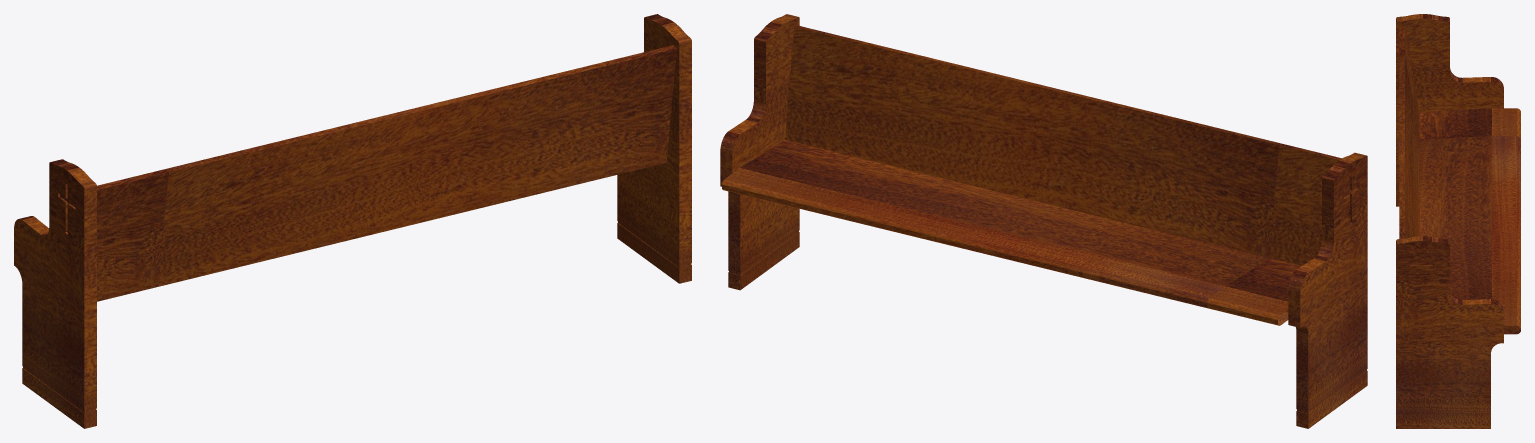
3 renders of one model, left to right at view 1: azimuth 30°, elevation 25°; view 2: azimuth 150°, elevation 25°; view 3: azimuth 270°, elevation 25°, orthographic. The views are drawn at different scales.
Parts seen in each view (by area): view 1: mesh7_mesh7-geometry, mesh4_mesh4-geometry, mesh1_mesh1-geometry; view 2: mesh7_mesh7-geometry, mesh4_mesh4-geometry, mesh1_mesh1-geometry; view 3: mesh7_mesh7-geometry, mesh1_mesh1-geometry, mesh4_mesh4-geometry.
Boxes of the visible parts, box(x1,y1,x2,y2) form: mesh7_mesh7-geometry: box(97, 45, 676, 301); mesh4_mesh4-geometry: box(14, 159, 96, 428); mesh1_mesh1-geometry: box(617, 14, 691, 283); mesh7_mesh7-geometry: box(722, 25, 1341, 325); mesh4_mesh4-geometry: box(1288, 152, 1367, 428); mesh1_mesh1-geometry: box(720, 14, 799, 290); mesh7_mesh7-geometry: box(1399, 27, 1520, 334); mesh1_mesh1-geometry: box(1396, 236, 1503, 428); mesh4_mesh4-geometry: box(1396, 14, 1503, 206).
Size of the model in its own units: 0.9117 by 0.3521 by 0.2117.
